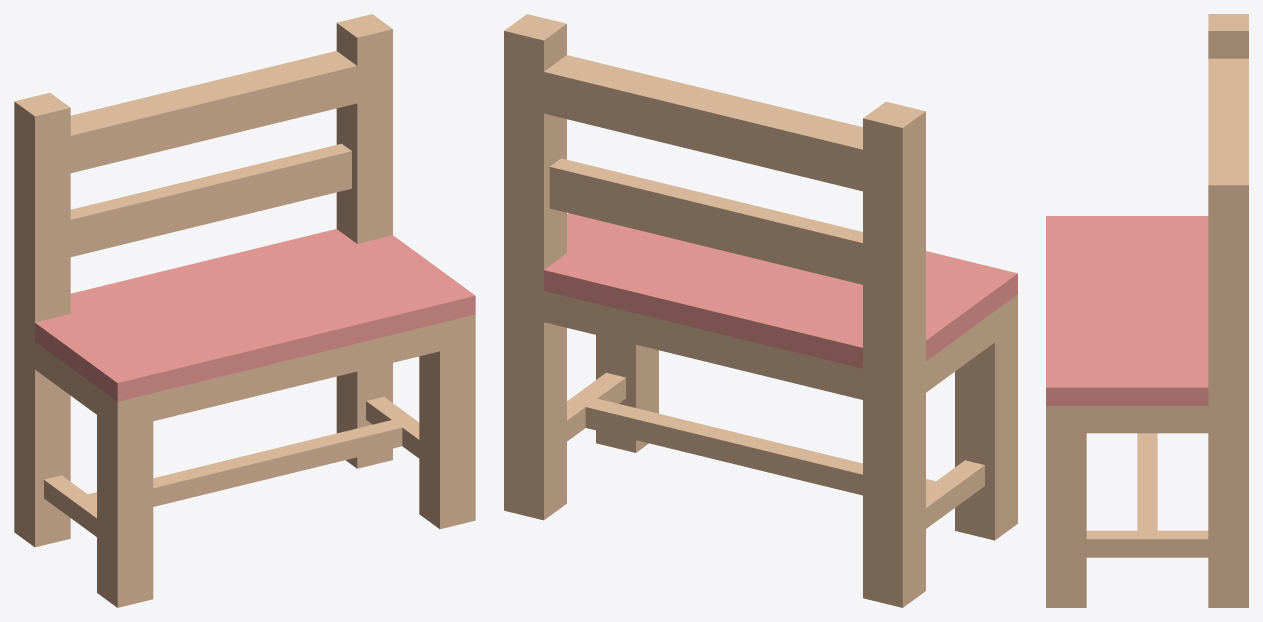
Rendered from benchCushion.optimized.glb.
3 renders of one model, left to right at view 1: azimuth 30°, elevation 25°; view 2: azimuth 150°, elevation 25°; view 3: azimuth 270°, elevation 25°, orthographic. The views are drawn at different scales.
Parts seen in each view (by area): view 1: benchCushion(Clone); view 2: benchCushion(Clone); view 3: benchCushion(Clone).
Boxes of the visible parts, x1,y1,x2,y2 form: benchCushion(Clone): (14, 14, 475, 607); benchCushion(Clone): (504, 14, 1017, 607); benchCushion(Clone): (1046, 14, 1248, 607).
Bounding box in the file's own units: 0.4 × 0.46 × 0.2.
